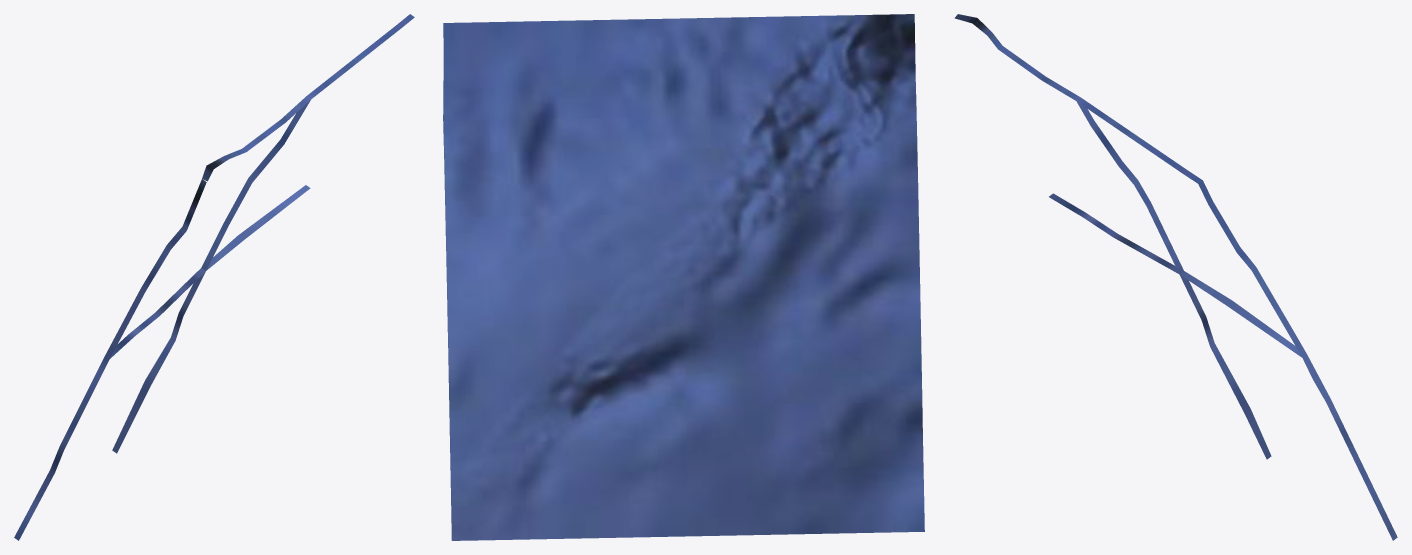
The picture shows the model from 3 angles, left to right: view 1: azimuth 30°, elevation 25°; view 2: azimuth 150°, elevation 25°; view 3: azimuth 270°, elevation 25°; orthographic projection. The views are drawn at different scales.
Bounding box in the file's own units: 19800 × 17910 × 17229.
Materials: 1 (1 with a texture image).
